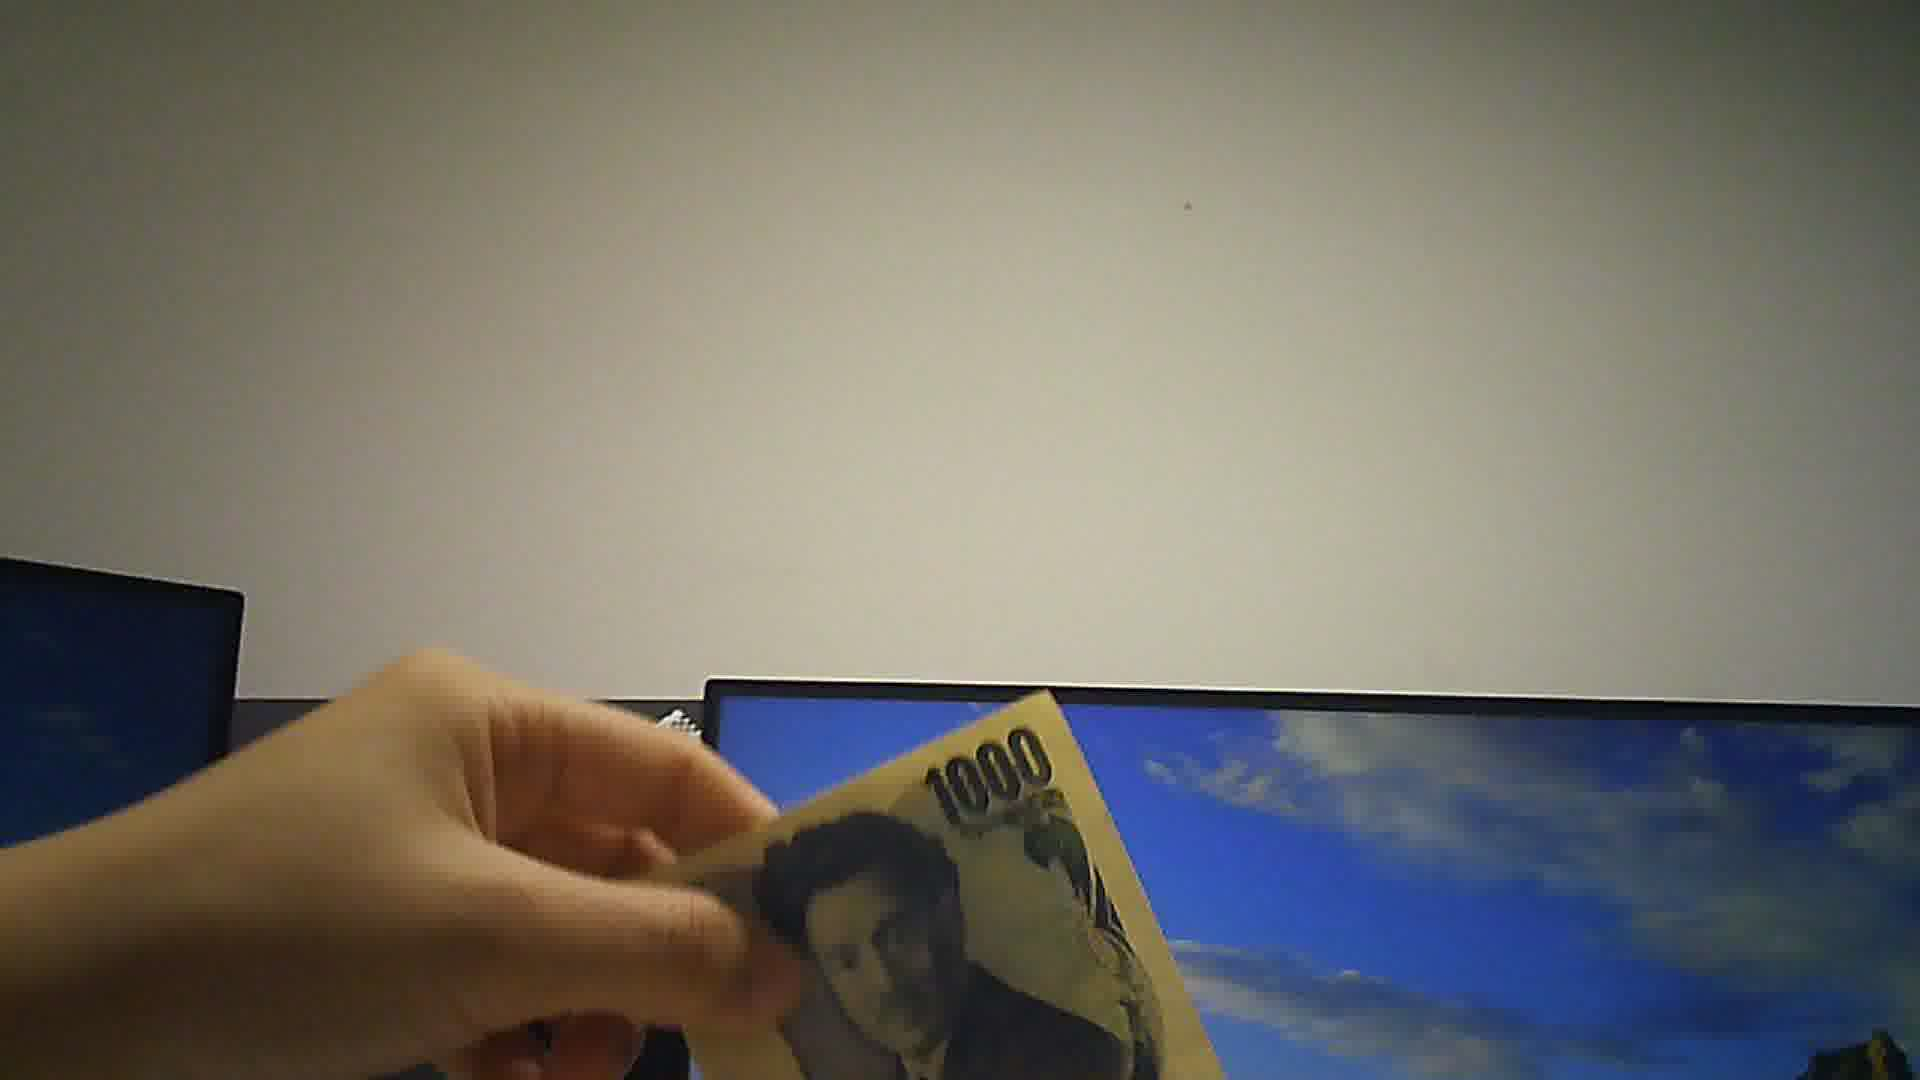1,000 Yen: (628, 686, 1218, 1079)
